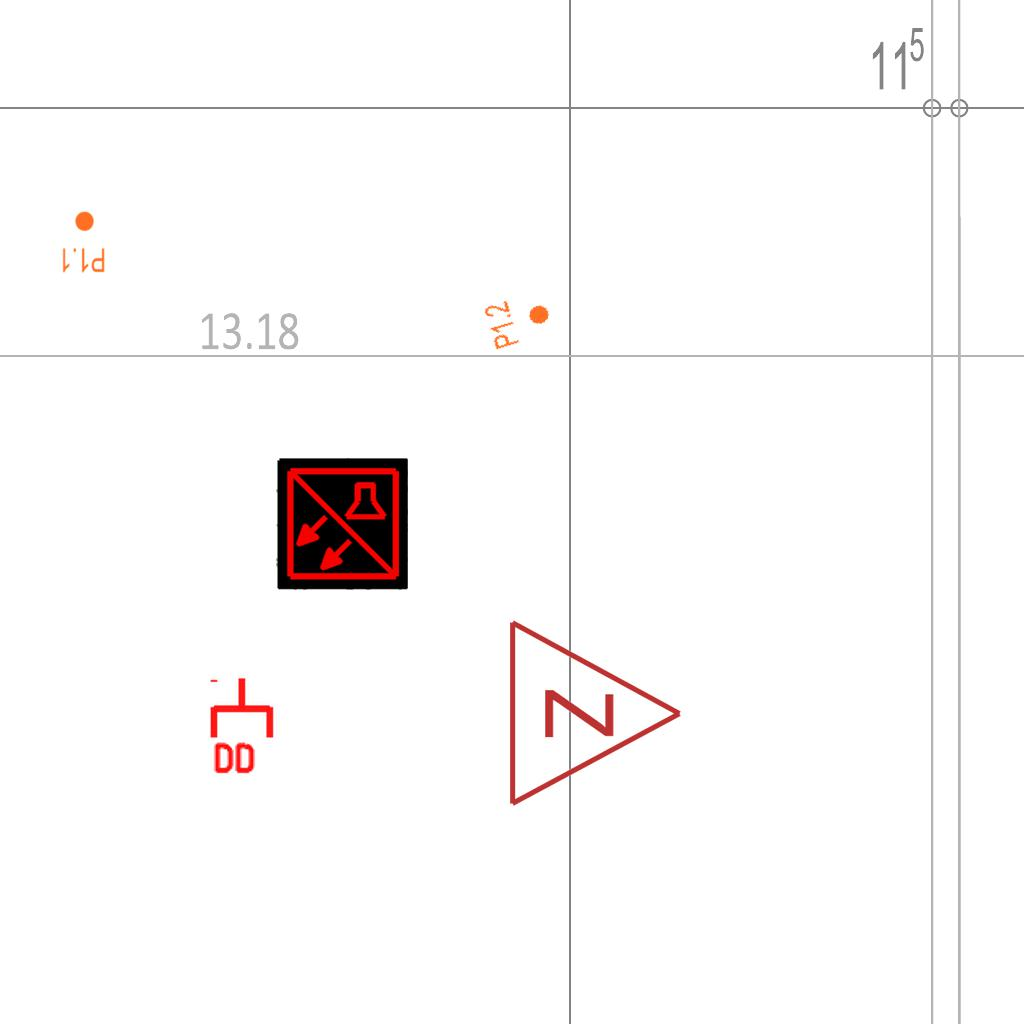Datenanschluss_zweifach: (209, 675, 278, 778)
Downlight_LED_Einbauleuchten_Flur: (481, 288, 557, 352), (60, 210, 106, 274)
OKW_Multisensormelder_(Kombination_optischer_Rauch-Kahlenmonoxid_Waerme-Melder): (276, 458, 408, 590)
Zimmersignalleuchte: (495, 613, 695, 809)
